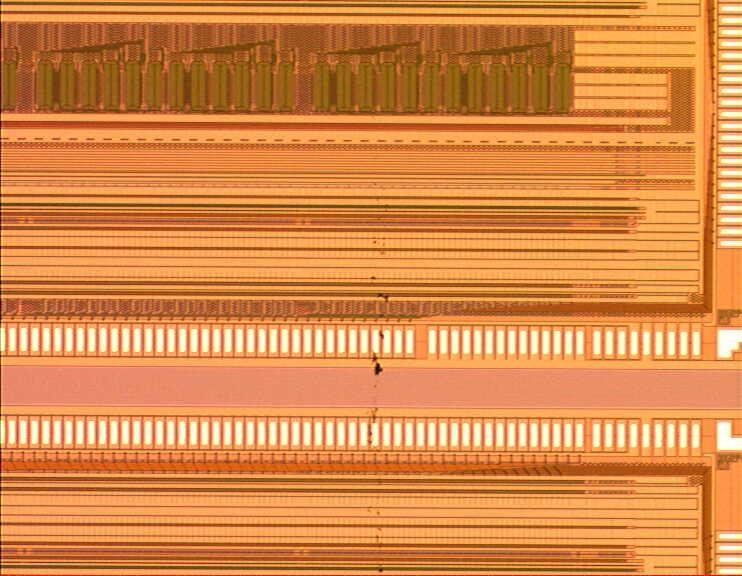PO CONTAMINATION: (361, 187, 394, 576)
